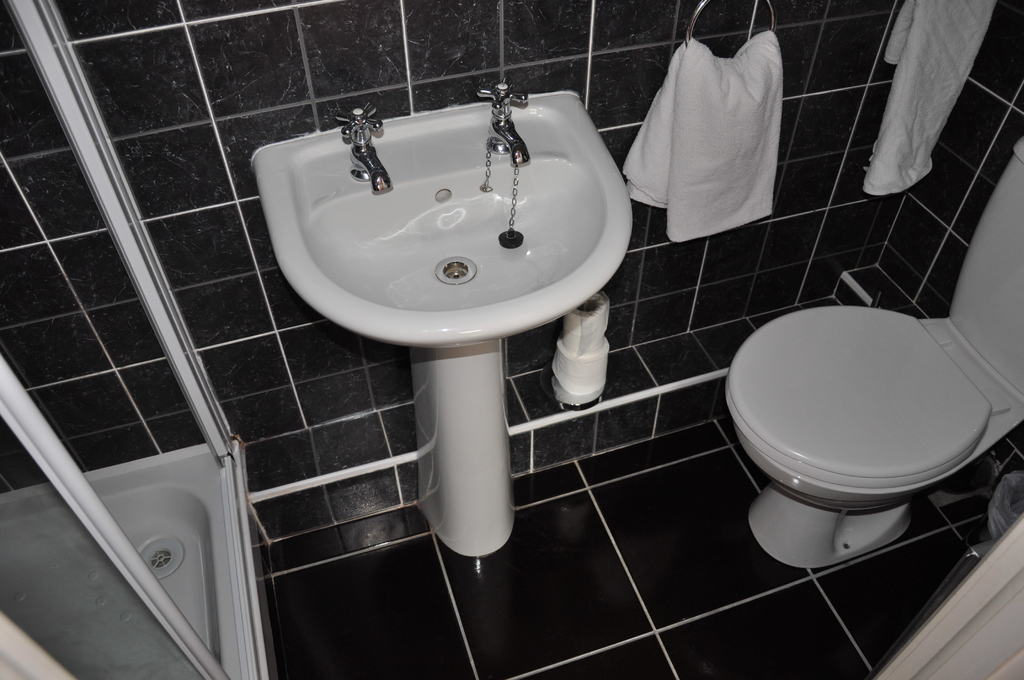tap: (332, 95, 397, 200), (471, 76, 531, 160)
